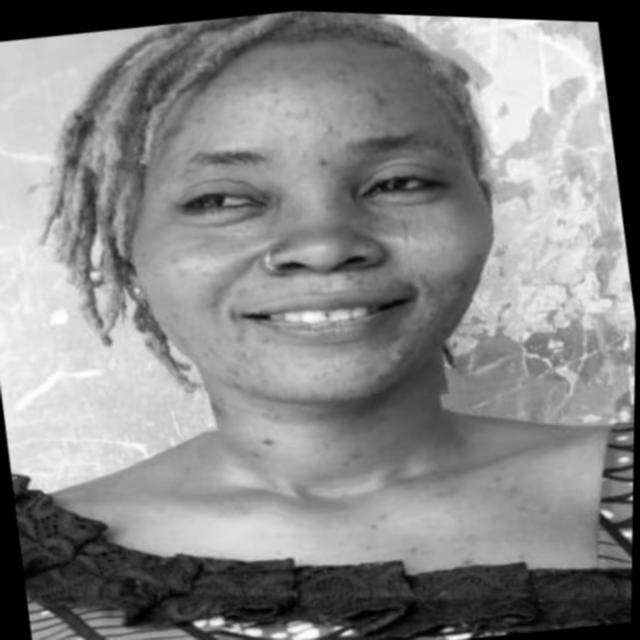happy: (76, 2, 533, 449)
